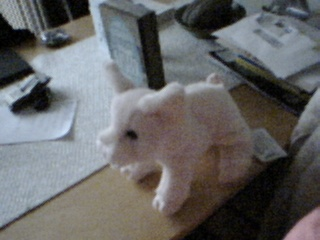piggy: (93, 58, 255, 217)
